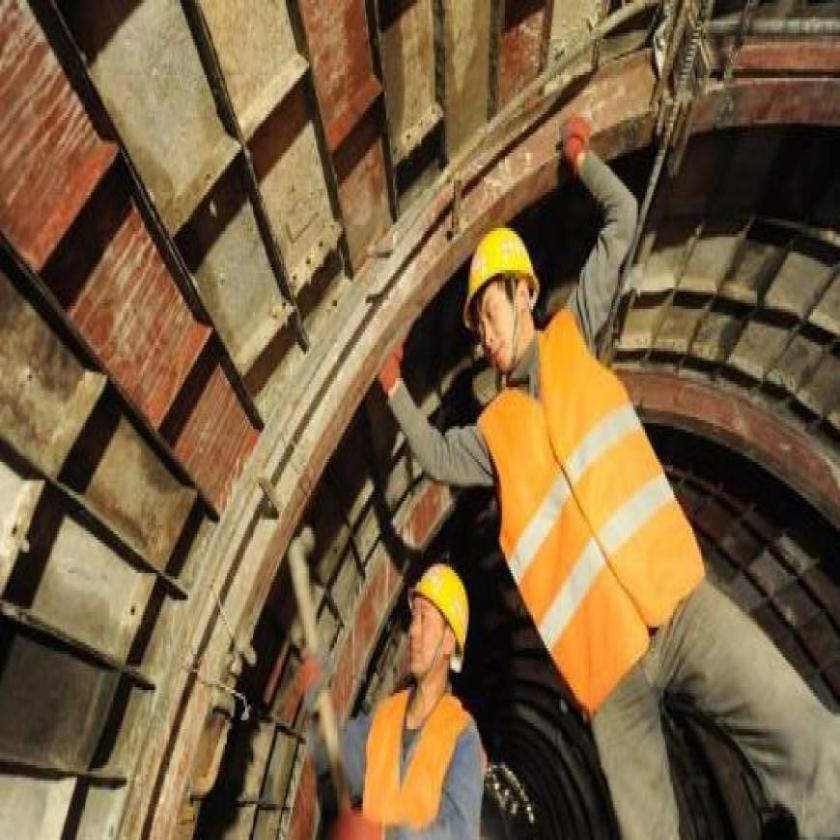Con_casco: (462, 226, 545, 366), (403, 560, 470, 701)
